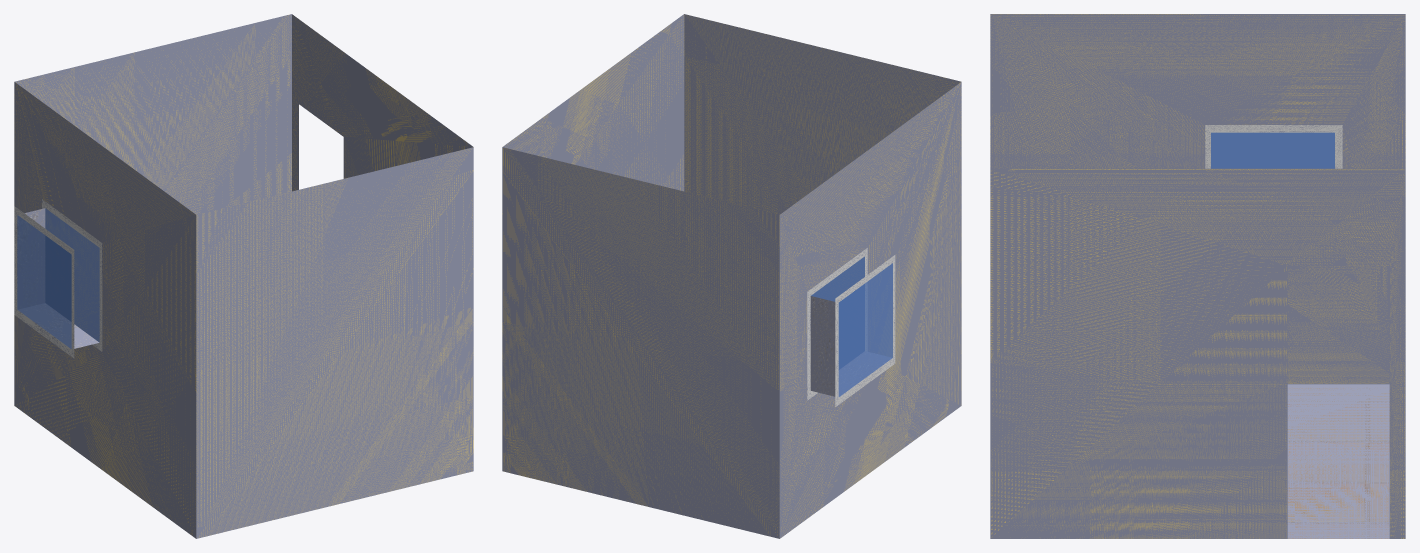
Rendered from DES033.obj.
3 views of the same model, side by side, from view 1: azimuth 30°, elevation 25°; view 2: azimuth 150°, elevation 25°; view 3: azimuth 270°, elevation 25° (orthographic). The views are drawn at different scales.
Parts seen in each view (by area): view 1: Mesh5 DES033 Model, Mesh1 Group1 DES033 Model; view 2: Mesh5 DES033 Model, Mesh1 Group1 DES033 Model; view 3: Mesh5 DES033 Model, Mesh1 Group1 DES033 Model.
Boxes of the visible parts, x1,y1,x2,y2 form: Mesh5 DES033 Model: (14, 14, 473, 538); Mesh1 Group1 DES033 Model: (14, 199, 102, 358); Mesh5 DES033 Model: (502, 14, 961, 538); Mesh1 Group1 DES033 Model: (807, 248, 895, 406); Mesh5 DES033 Model: (990, 14, 1405, 538); Mesh1 Group1 DES033 Model: (1205, 125, 1342, 168).
Size of the model in its own units: 2.96 by 3 by 3.05.
Materials: 6 (2 with a texture image).
